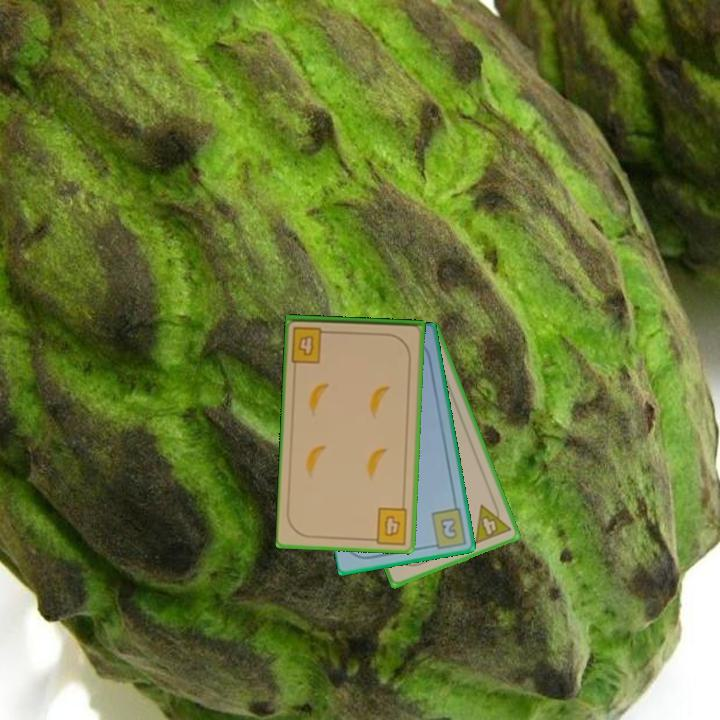2b: (425, 504, 469, 551)
4b: (288, 323, 334, 365), (366, 503, 410, 546)
4p: (471, 497, 513, 547)
